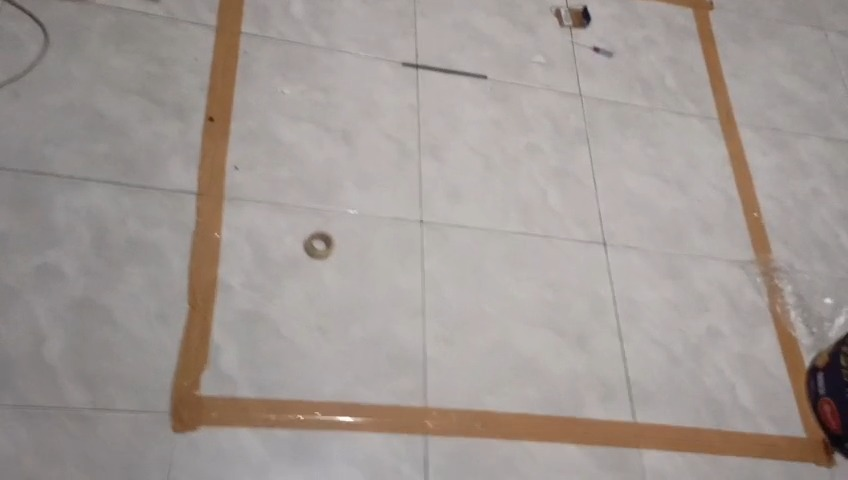floor marking: (171, 0, 832, 465)
